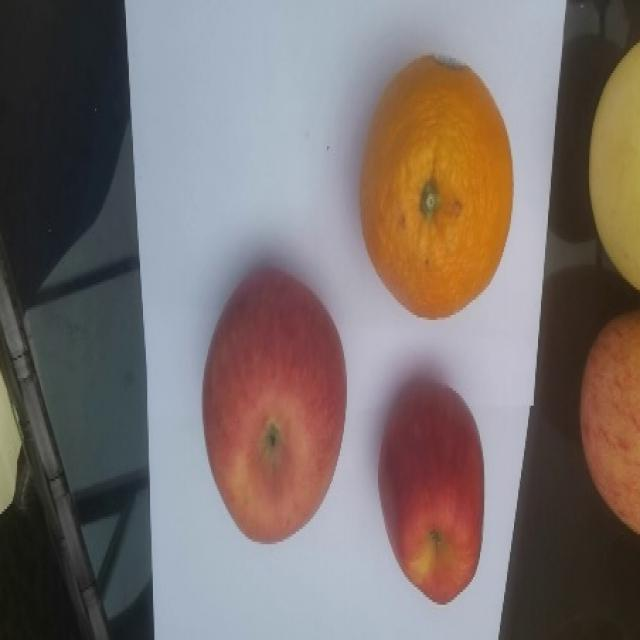Apple: (201, 266, 347, 543), (376, 378, 485, 604), (578, 309, 639, 535)
Orange: (358, 53, 514, 319)
